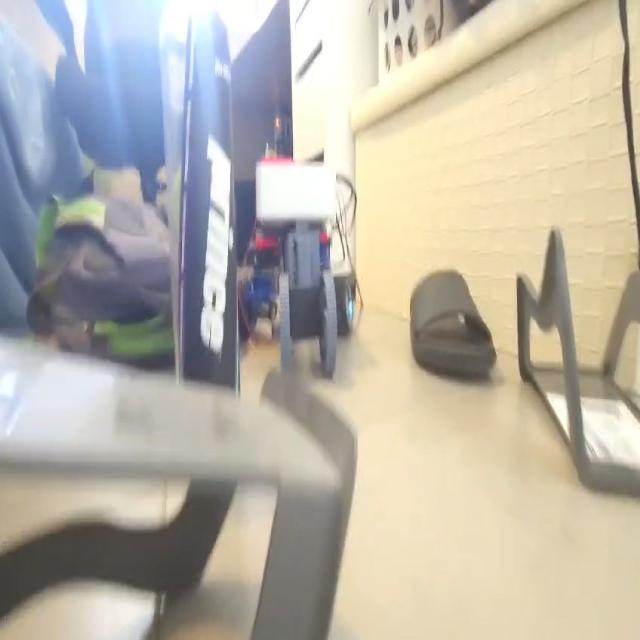Robot: (238, 157, 354, 377)
